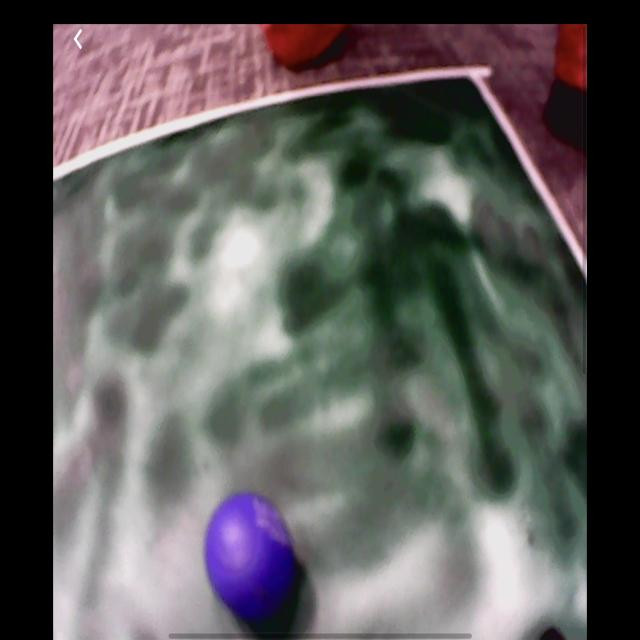ball: (206, 493, 299, 615)
